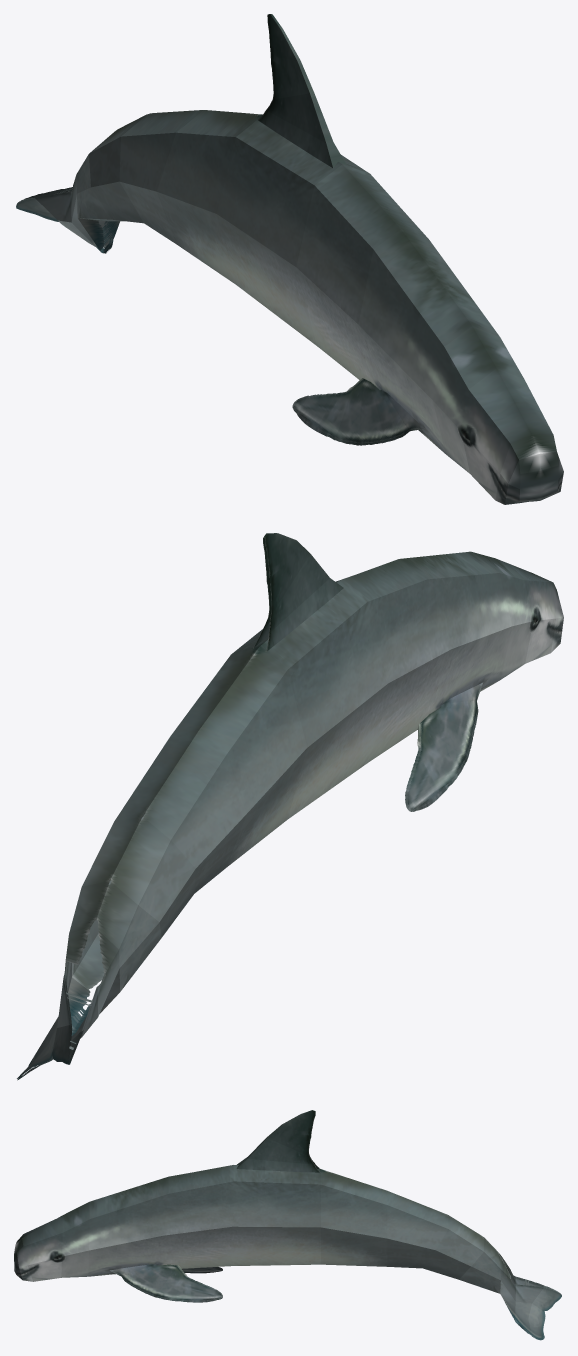
Rendered from AR_Species_Vaquita.fbx.
3 views of the same model, one above another, from view 1: azimuth 30°, elevation 25°; view 2: azimuth 150°, elevation 25°; view 3: azimuth 270°, elevation 25° (orthographic). The views are drawn at different scales.
Parts seen in each view (by area): view 1: Vaquita.001; view 2: Vaquita.001; view 3: Vaquita.001.
Boxes of the visible parts, x1,y1,x2,y2 form: Vaquita.001: [16, 14, 563, 504]; Vaquita.001: [17, 533, 563, 1080]; Vaquita.001: [14, 1110, 561, 1340].
Size of the model in its own units: 67.11 by 196 by 442.
1 material, 1 textured.
